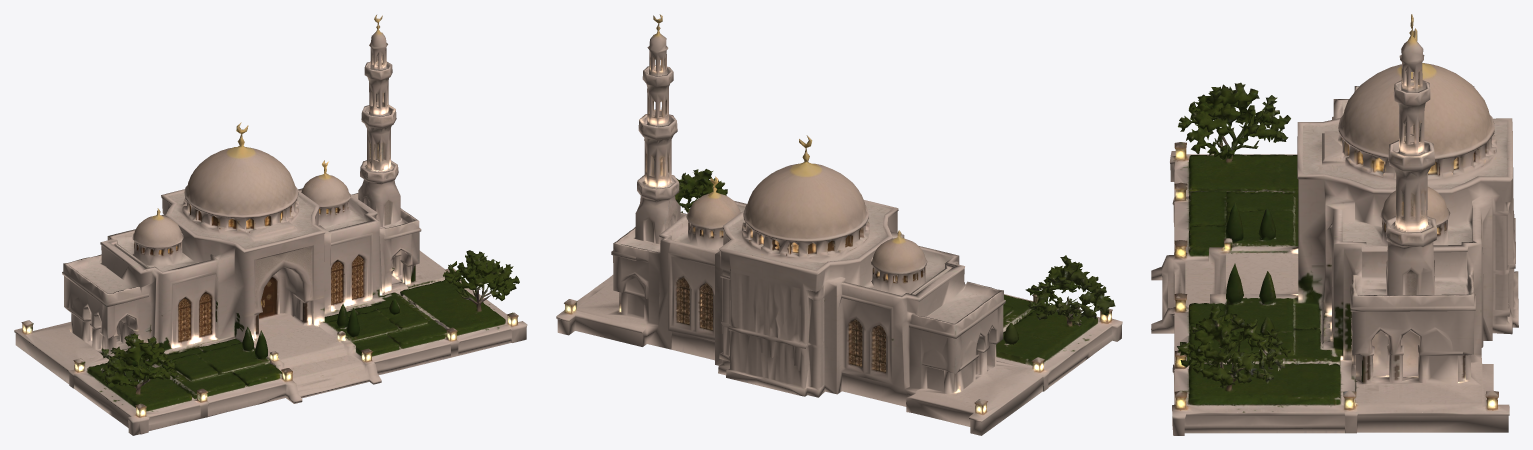
The model's file is kw_mosque.glb.
3 views of the same model, side by side, from view 1: azimuth 30°, elevation 25°; view 2: azimuth 150°, elevation 25°; view 3: azimuth 270°, elevation 25° (orthographic). The views are drawn at different scales.
Parts seen in each view (by area): view 1: frame; view 2: frame; view 3: frame.
Boxes of the visible parts, left/top/right/bottom form: frame: left=14, top=15, right=527, bottom=435; frame: left=556, top=14, right=1122, bottom=435; frame: left=1151, top=14, right=1518, bottom=435.
Bounding box in the file's own units: 33.84 × 21.7 × 19.01.
1 material, 1 textured.
